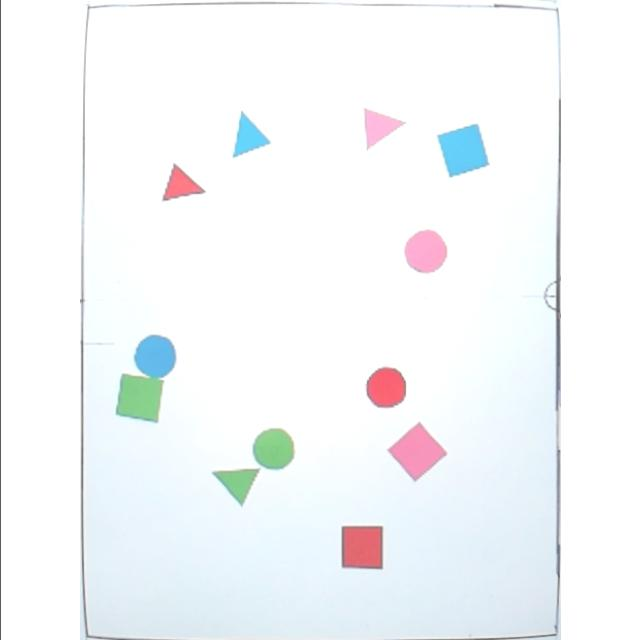blueCircle: (132, 334, 178, 378)
blueSquare: (434, 123, 492, 179)
blueTriangle: (228, 107, 274, 161)
greenCircle: (252, 426, 298, 470)
greenSquare: (114, 372, 164, 426)
greenTriangle: (210, 462, 262, 508)
pinkCircle: (402, 228, 450, 276)
pinkSquare: (386, 422, 448, 482)
pinkTriangle: (360, 105, 410, 153)
redCircle: (363, 366, 409, 410)
redSquare: (338, 522, 388, 574)
redTriangle: (161, 162, 209, 206)
